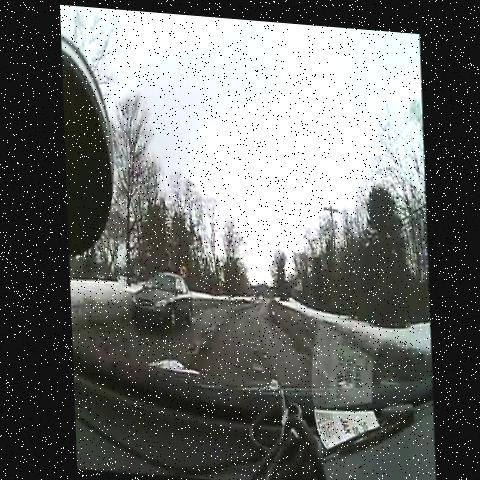pothole: (197, 310, 221, 341), (243, 329, 262, 359), (183, 332, 203, 360), (241, 354, 266, 376)
